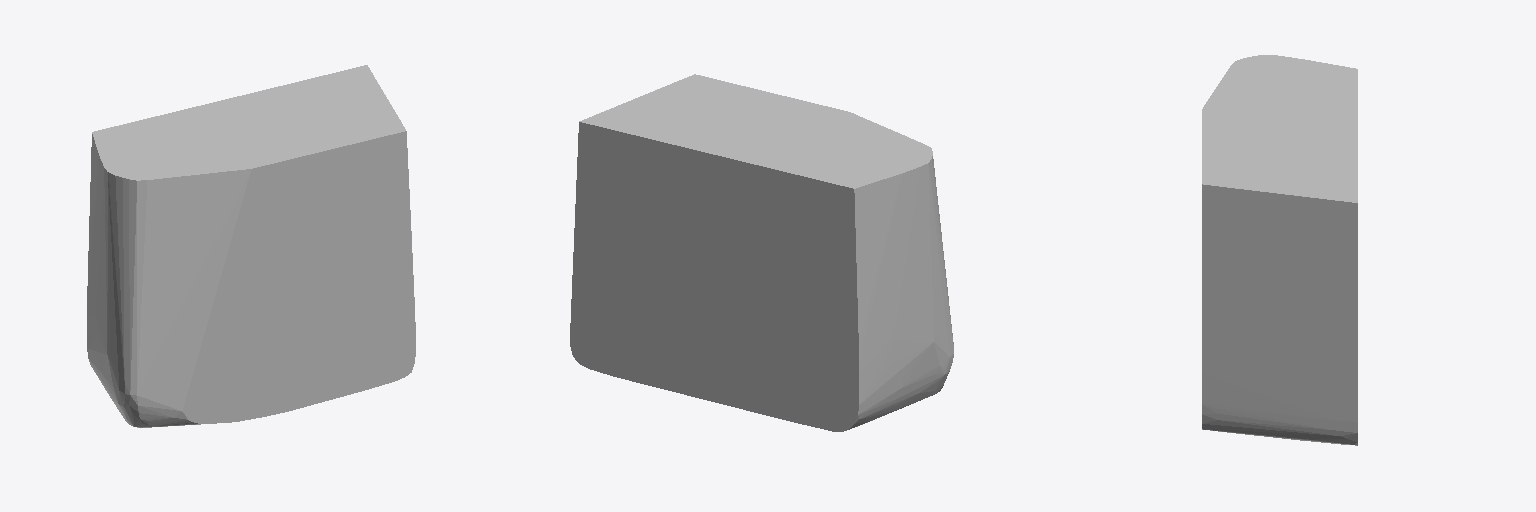
File: box_long_brown_M_collision_12.obj
3 renders of one model, left to right at view 1: azimuth 30°, elevation 25°; view 2: azimuth 150°, elevation 25°; view 3: azimuth 270°, elevation 25°, orthographic.
Size of the model in its own units: 0.0426 by 0.0322 by 0.018.